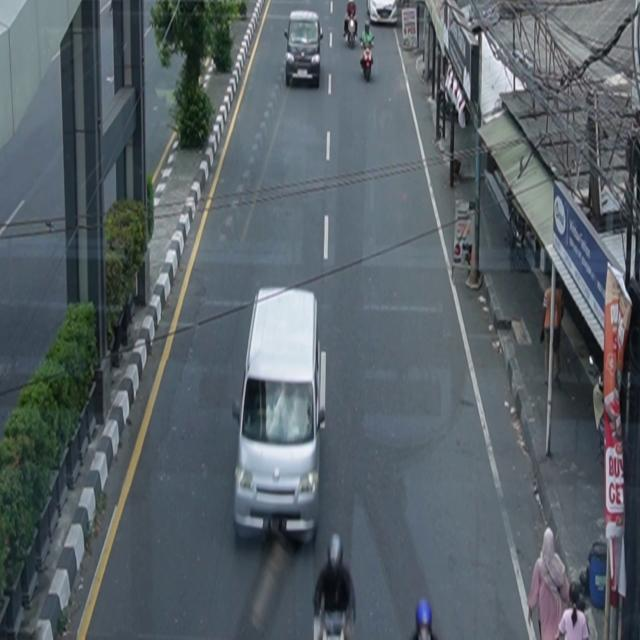bus: (232, 286, 327, 545)
car: (284, 11, 324, 88), (367, 1, 399, 26)
